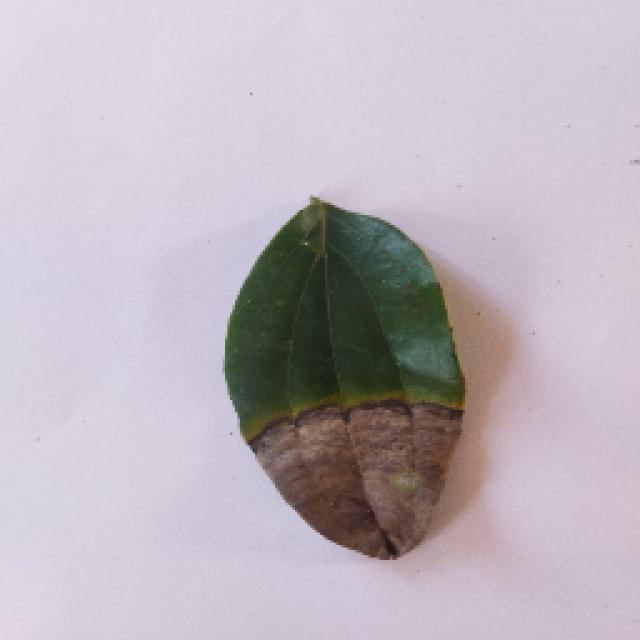footrot: (207, 178, 485, 560)
